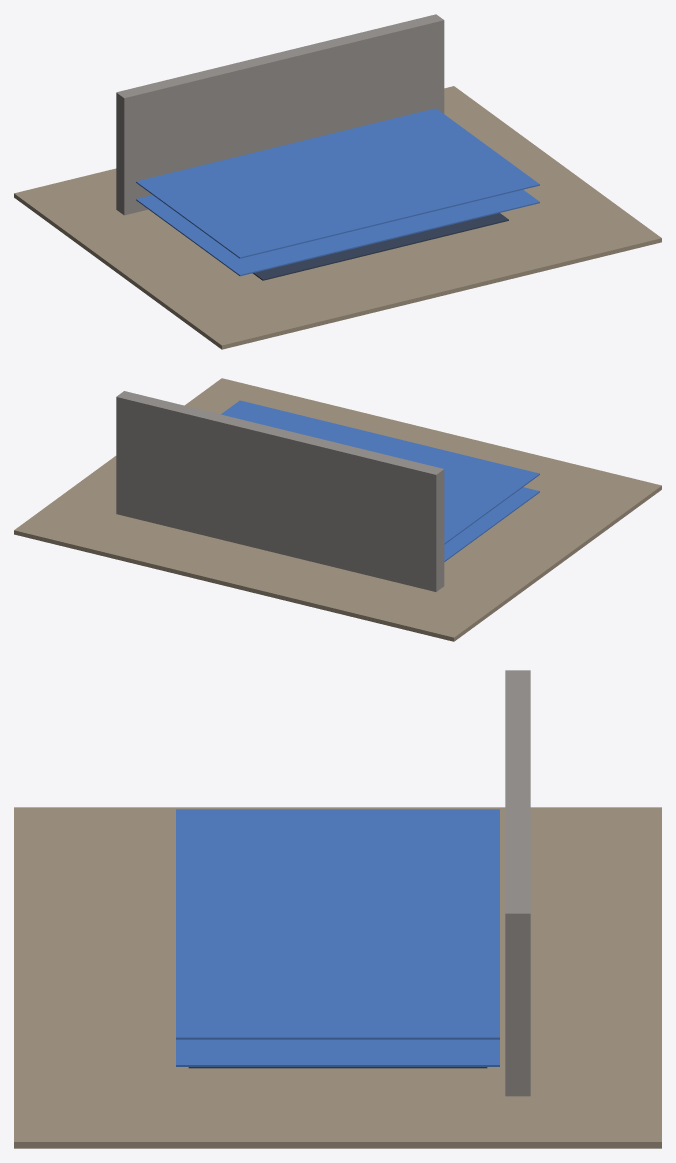
File: stage_04_columns.glb
3 views of the same model, one above another, from view 1: azimuth 30°, elevation 25°; view 2: azimuth 150°, elevation 25°; view 3: azimuth 270°, elevation 25° (orthographic). The views are drawn at different scales.
Visible parts, largest first — view 1: world; view 2: world; view 3: world.
Part boxes in pixels (x1,y1,x2,y2): world: (14,14,661,349); world: (14,378,661,641); world: (14,670,661,1148).
Size of the model in its own units: 11 by 2.9 by 9.
